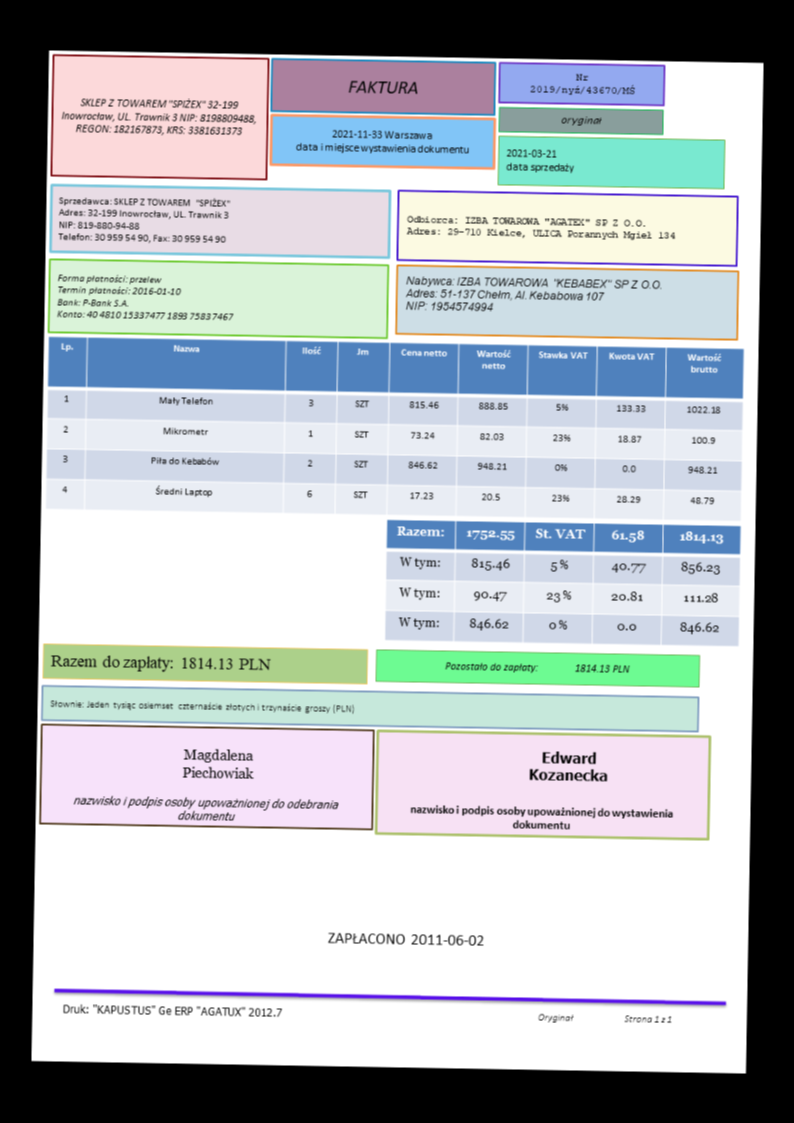Table: (41, 333, 746, 522), (382, 519, 743, 649)
TextBox: (400, 269, 668, 318), (53, 269, 236, 327), (406, 798, 677, 836), (403, 209, 679, 246), (54, 191, 231, 247), (68, 790, 343, 825), (56, 93, 260, 140), (44, 690, 359, 718), (45, 648, 270, 676), (56, 998, 285, 1024), (292, 123, 472, 156), (323, 923, 491, 954), (441, 655, 635, 679), (525, 742, 611, 788), (527, 68, 639, 101), (178, 744, 256, 785), (533, 1006, 675, 1027), (501, 142, 576, 179), (344, 74, 419, 98), (558, 113, 605, 129)
